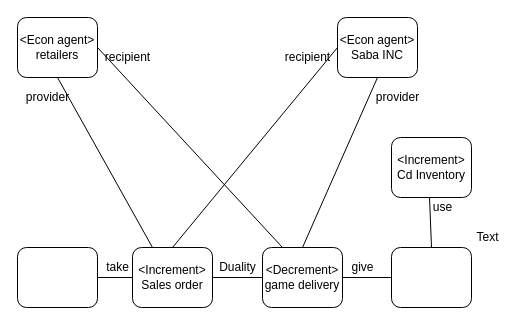
The diagram is 525 pixels wide and 325 high, and some of its shapes have lost their labels. Here are the shapes that lost their labels. From the top down, the centre of each, then its label:
the point at 57,277: <Econ reso> money
the point at 431,277: <Econ reso> game
